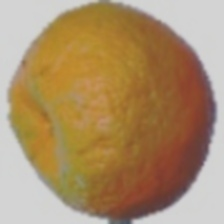tangerine: (21, 28, 218, 198)
